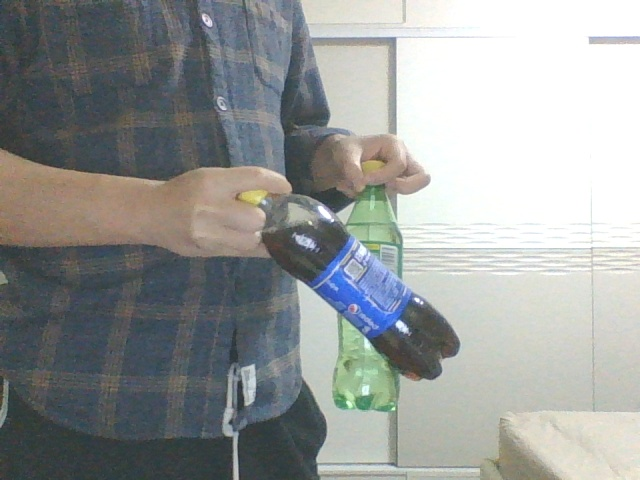Cola: (241, 190, 460, 382)
Sprite: (332, 160, 402, 410)
